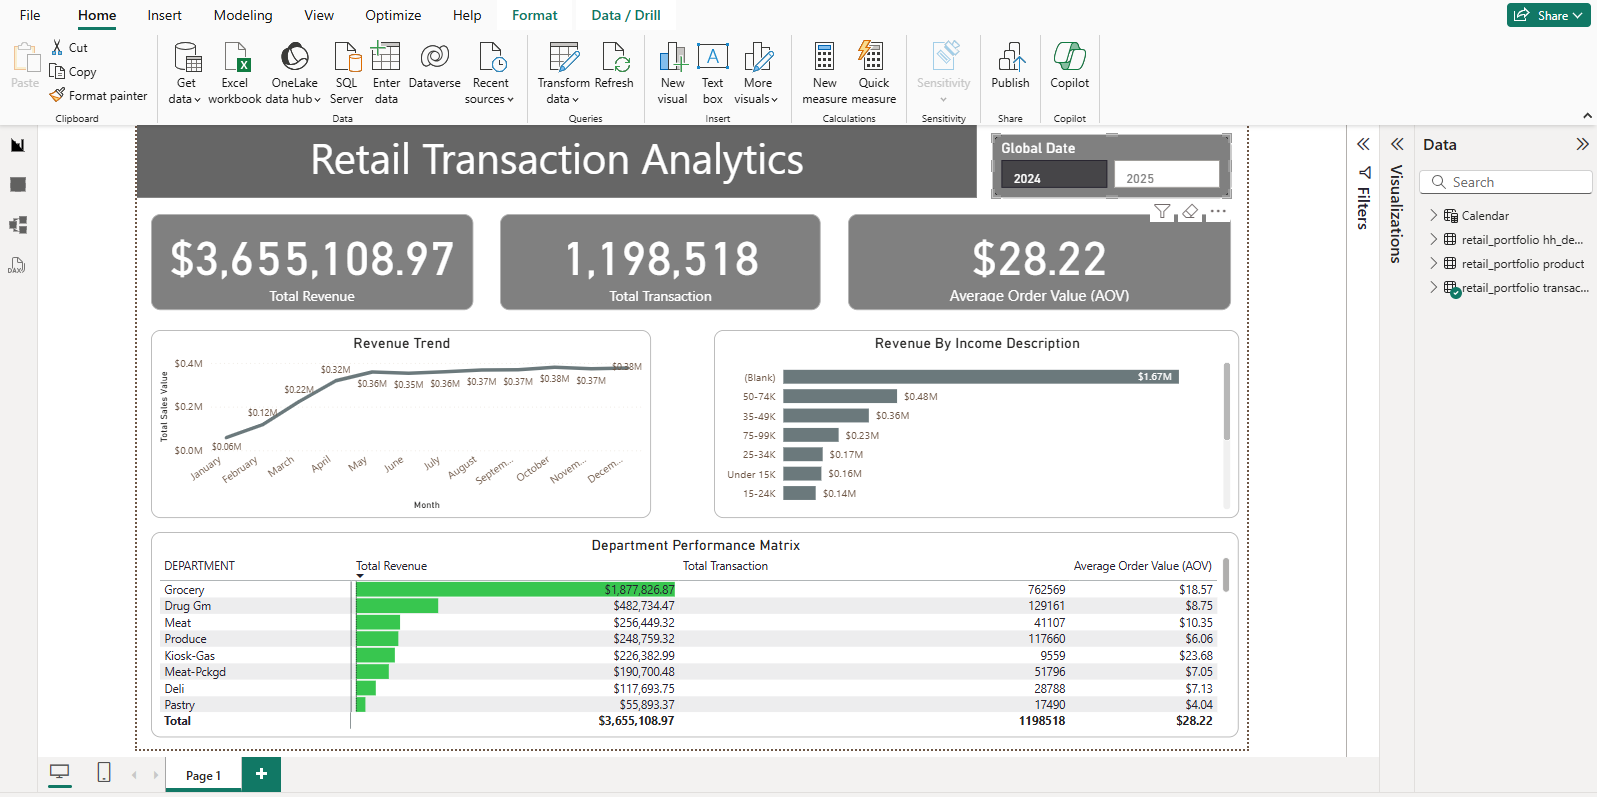

The page's visual inventory and layout, read from the dashboard file:
{"tool":"powerbi","page":{"name":"Page 1","canvas":[1280,720],"ordinal":0},"visuals":[{"type":"textbox","box":[0,0,969.2,84.2],"z":0},{"type":"card","fields":{"Values":["Sum(retail_portfolio transaction_data.SALES_VALUE)"]},"box":[16.2,102.7,371.5,110.8],"z":1000},{"type":"card","fields":{"Values":["retail_portfolio transaction_data.Total Transaction MEASURE"]},"box":[418.8,102.7,370.4,110.8],"z":2000},{"type":"card","fields":{"Values":["retail_portfolio transaction_data.AOV"]},"box":[820.4,102.7,441.9,110.8],"z":3000},{"type":"lineChart","title":"Revenue Trend","fields":{"Category":["retail_portfolio transaction_data.transaction_date.Variation.Date Hierarchy.Month"],"Y":["Sum(retail_portfolio transaction_data.SALES_VALUE)"]},"box":[16.2,236.5,576.9,216.9],"z":4000},{"type":"clusteredBarChart","title":"Revenue By Income Description","fields":{"Category":["retail_portfolio hh_demographic.INCOME_DESC"],"Y":["Sum(retail_portfolio transaction_data.SALES_VALUE)"]},"box":[665.8,236.5,605.8,216.9],"z":5000},{"type":"pivotTable","title":"Department Performance Matrix","fields":{"Rows":["retail_portfolio product.DEPARTMENT"],"Values":["Sum(retail_portfolio transaction_data.SALES_VALUE)","CountNonNull(retail_portfolio transaction_data.BASKET_ID)","retail_portfolio transaction_data.AOV"]},"box":[16.2,469.6,1255.4,236.5],"z":6000},{"type":"advancedSlicerVisual","title":"Global Date","fields":{"Values":["retail_portfolio transaction_data.transaction_date.Variation.Date Hierarchy.Year"]},"box":[986.5,10.4,275.8,73.8],"z":6001}]}

Visuals, with their boxes on the page's 1280x720 design canvas (x1, y1, x2, y2). These are canvas units, not pixel positions in the 1597x797 screenshot, which may show the page scaled, cropped or inside an application window:
textbox: rect(0, 0, 969, 84)
card - Sum(retail_portfolio transaction_data.SALES_VALUE): rect(16, 103, 388, 214)
card - retail_portfolio transaction_data.Total Transaction MEASURE: rect(419, 103, 789, 214)
card - retail_portfolio transaction_data.AOV: rect(820, 103, 1262, 214)
"Revenue Trend" lineChart: rect(16, 236, 593, 453)
"Revenue By Income Description" clusteredBarChart: rect(666, 236, 1272, 453)
"Department Performance Matrix" pivotTable: rect(16, 470, 1272, 706)
"Global Date" advancedSlicerVisual: rect(986, 10, 1262, 84)
